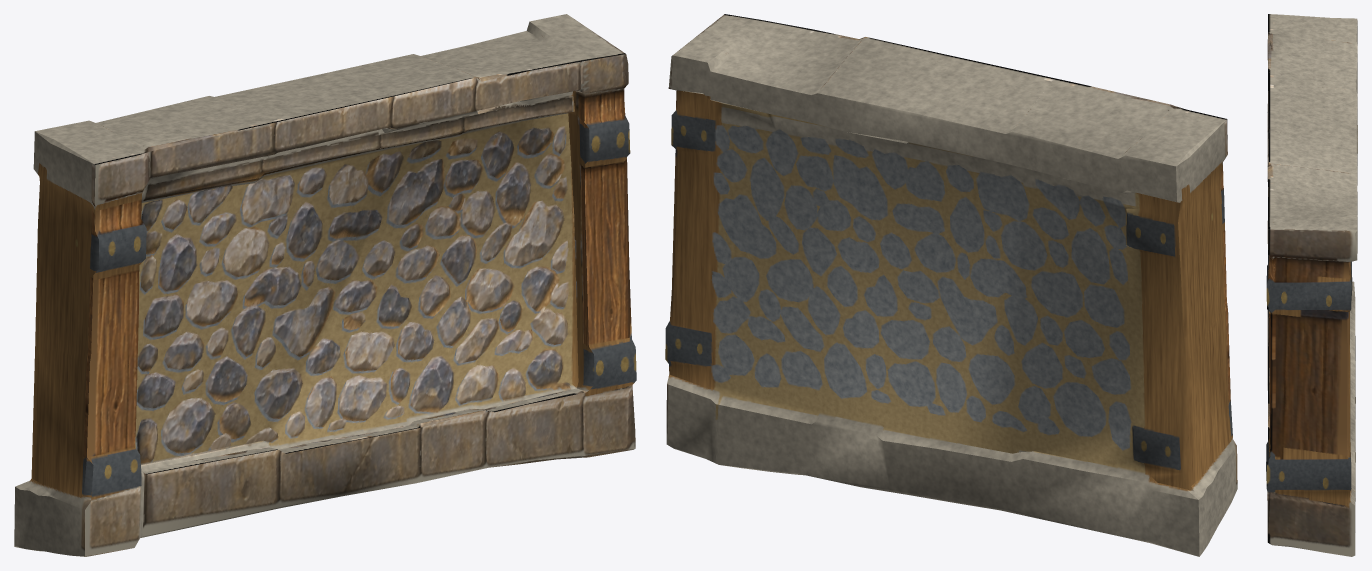
Rendered from flint_wall_4m.glb.
The picture shows the model from 3 angles, left to right: view 1: azimuth 30°, elevation 25°; view 2: azimuth 150°, elevation 25°; view 3: azimuth 270°, elevation 25°; orthographic projection. The views are drawn at different scales.
Visible parts, largest first — view 1: flint_wall_4m; view 2: flint_wall_4m; view 3: flint_wall_4m.
Boxes of the visible parts, x1,y1,x2,y2 form: flint_wall_4m: [14, 14, 636, 556]; flint_wall_4m: [665, 14, 1237, 556]; flint_wall_4m: [1266, 14, 1357, 556].
Bounding box in the file's own units: 4 × 3 × 0.7199.
1 material, 1 textured.
